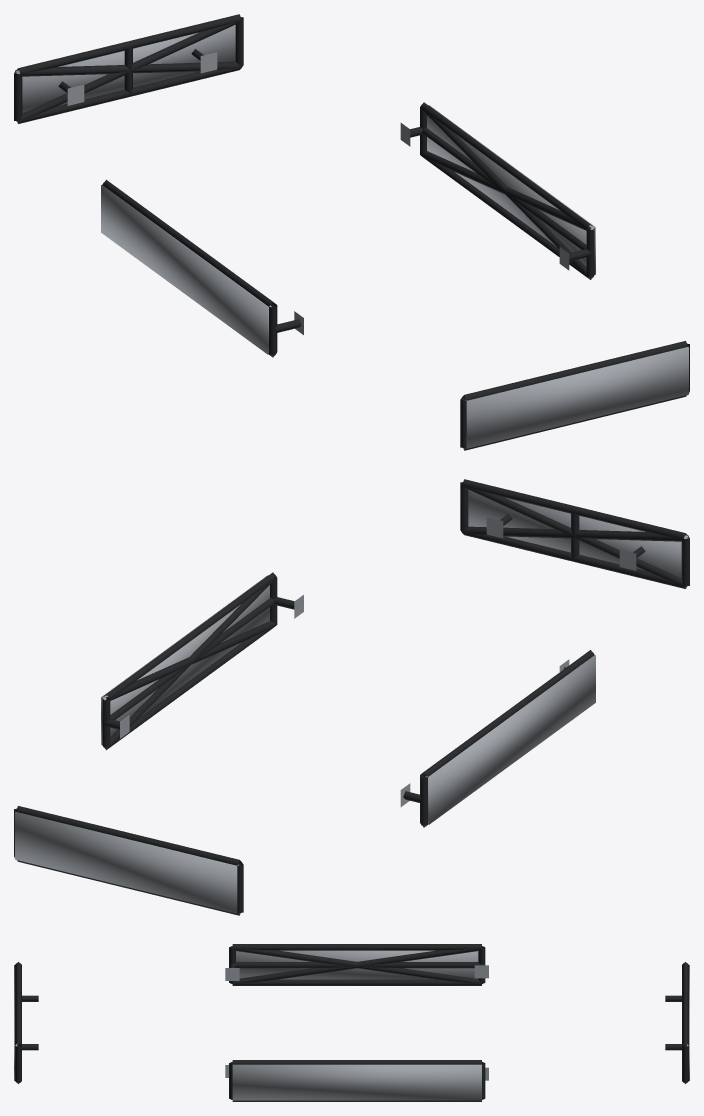
The model's file is whitlock_cometa_protecao.glb.
3 views of the same model, one above another, from view 1: azimuth 30°, elevation 25°; view 2: azimuth 150°, elevation 25°; view 3: azimuth 270°, elevation 25° (orthographic). The views are drawn at different scales.
Parts seen in each view (by area): view 1: Protection_front_Level3_Details, Protection_left_Level3_Details, Protection_rear_Level1_Details, Protection_rear_Level3_Details, Protection_right_Level1_Details, Protection_right_Level2_Details, Protection_rear_Level2_Details, Protection_right_Level3_Details, Protection_front_Level1_Details, Protection_left_Level1_Details; view 2: Protection_rear_Level3_Details, Protection_left_Level3_Details, Protection_front_Level1_Details, Protection_front_Level3_Details, Protection_right_Level1_Details, Protection_right_Level2_Details, Protection_front_Level2_Details, Protection_right_Level3_Details, Protection_rear_Level1_Details, Protection_left_Level1_Details; view 3: Protection_right_Level3_Details, Protection_left_Level2_Details, Protection_left_Level1_Details, Protection_left_Level3_Details, Protection_right_Level1_Details, Protection_rear_Level1_Details, Protection_front_Level1_Details.
Part boxes in pixels (x1=…): Protection_front_Level3_Details: x1=465, y1=347, x2=688, y2=448; Protection_left_Level3_Details: x1=101, y1=185, x2=271, y2=354; Protection_rear_Level1_Details: x1=14, y1=14, x2=243, y2=123; Protection_rear_Level3_Details: x1=15, y1=25, x2=235, y2=113; Protection_right_Level1_Details: x1=400, y1=102, x2=594, y2=279; Protection_right_Level2_Details: x1=420, y1=108, x2=593, y2=279; Protection_rear_Level2_Details: x1=16, y1=20, x2=241, y2=123; Protection_right_Level3_Details: x1=427, y1=105, x2=595, y2=274; Protection_front_Level1_Details: x1=460, y1=341, x2=689, y2=450; Protection_left_Level1_Details: x1=102, y1=179, x2=303, y2=357; Protection_rear_Level3_Details: x1=15, y1=812, x2=238, y2=913; Protection_left_Level3_Details: x1=425, y1=655, x2=595, y2=824; Protection_front_Level1_Details: x1=460, y1=479, x2=689, y2=588; Protection_front_Level3_Details: x1=468, y1=490, x2=688, y2=578; Protection_right_Level1_Details: x1=102, y1=572, x2=303, y2=750; Protection_right_Level2_Details: x1=103, y1=578, x2=276, y2=749; Protection_front_Level2_Details: x1=462, y1=485, x2=687, y2=588; Protection_right_Level3_Details: x1=101, y1=575, x2=269, y2=744; Protection_rear_Level1_Details: x1=14, y1=806, x2=243, y2=915; Protection_left_Level1_Details: x1=400, y1=650, x2=594, y2=827; Protection_right_Level3_Details: x1=232, y1=1064, x2=481, y2=1100; Protection_left_Level2_Details: x1=232, y1=946, x2=481, y2=984; Protection_left_Level1_Details: x1=225, y1=944, x2=488, y2=985; Protection_left_Level3_Details: x1=236, y1=950, x2=478, y2=979; Protection_right_Level1_Details: x1=225, y1=1060, x2=488, y2=1101; Protection_rear_Level1_Details: x1=665, y1=962, x2=688, y2=1083; Protection_front_Level1_Details: x1=15, y1=962, x2=38, y2=1083.
Bounding box in the file's own units: 2.17 × 0.354 × 5.18.
Materials: 1 (1 with a texture image).
